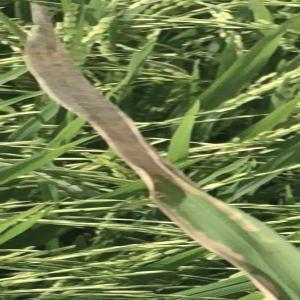2 BacterialBlight: (146, 162, 291, 300)
